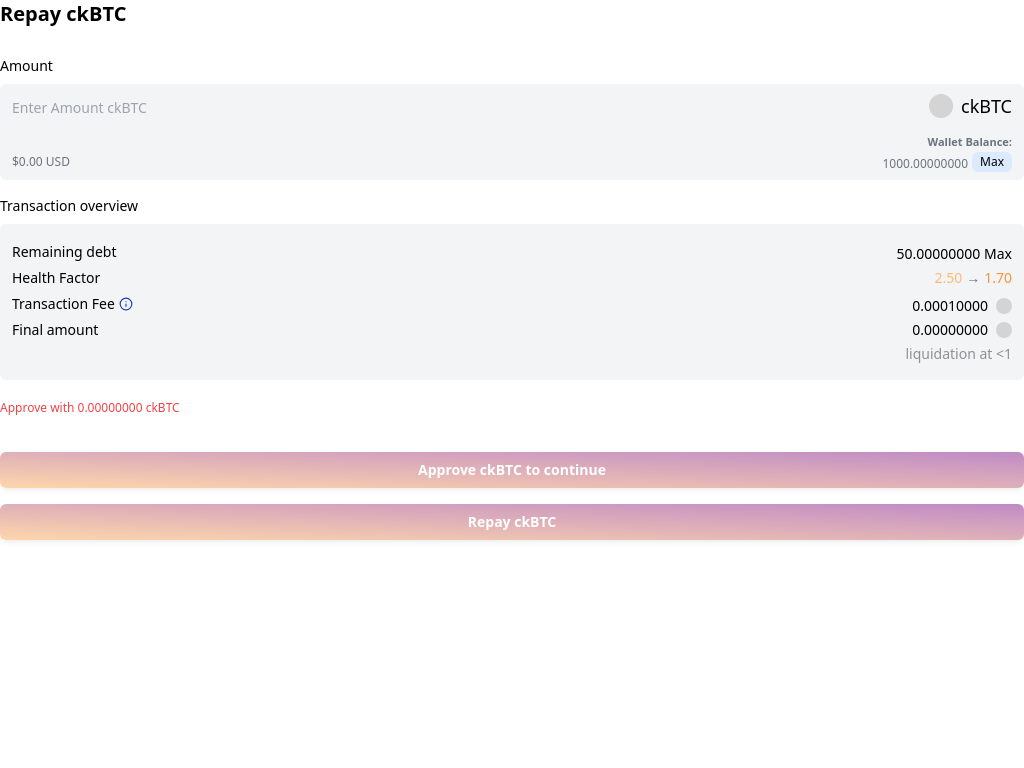
Scenario: Repay Component › displays USD value for amount input
Expected: the text "$0.00 USD" is shown, x1=12 y1=152 x2=70 y2=172
Step 1. Type "10" into the field with placeholder "Enter Amount ckBTC" → (237, 106), box x1=12 y1=92 x2=462 y2=120
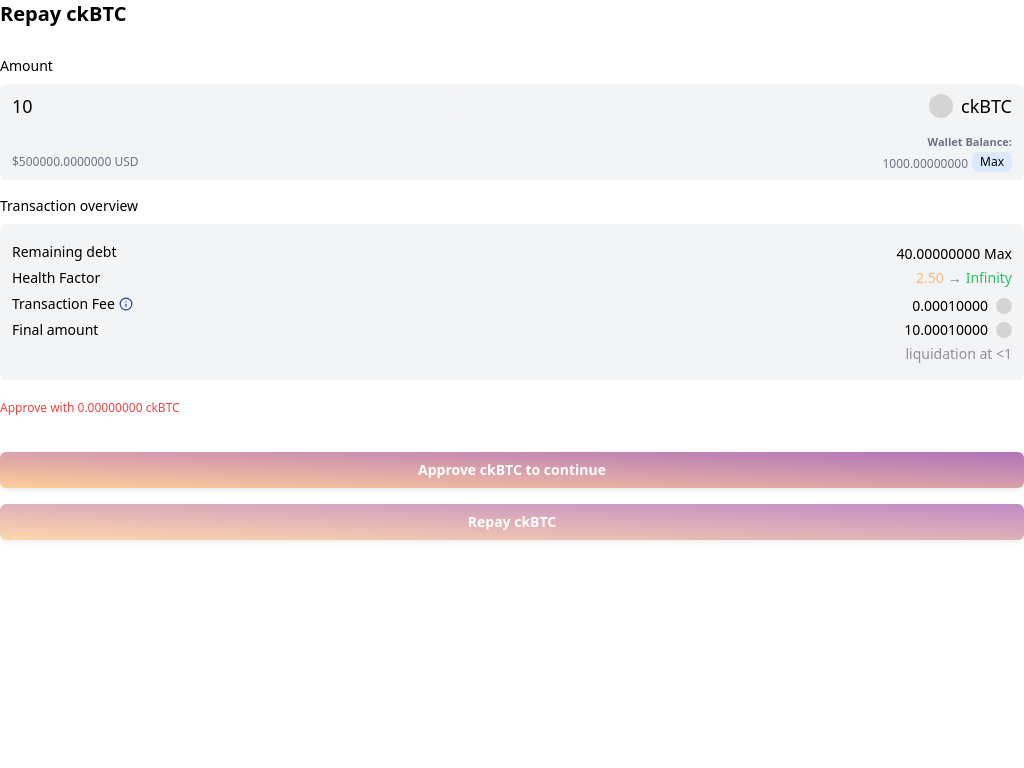
Expected: the text "$500000.0000000 USD" is shown, x1=12 y1=152 x2=139 y2=172
Expected: the text "$0.00 USD" is gone
